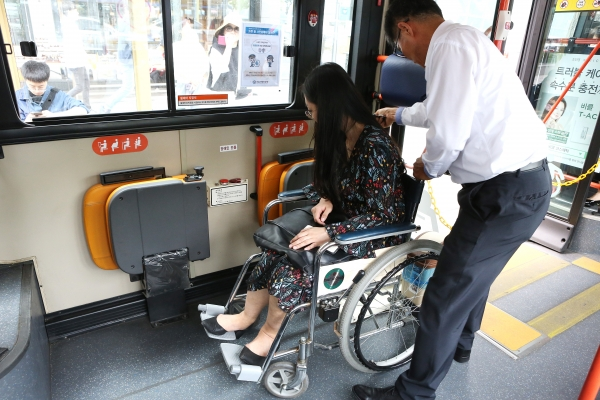wheelchair: (198, 62, 449, 397)
